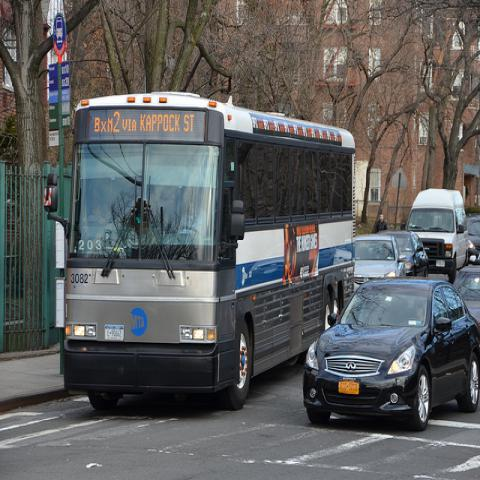bus: (56, 98, 356, 408)
car: (302, 274, 480, 428), (355, 236, 407, 287), (379, 228, 430, 279), (452, 265, 479, 324), (468, 217, 480, 250)
truck: (406, 186, 470, 284)
